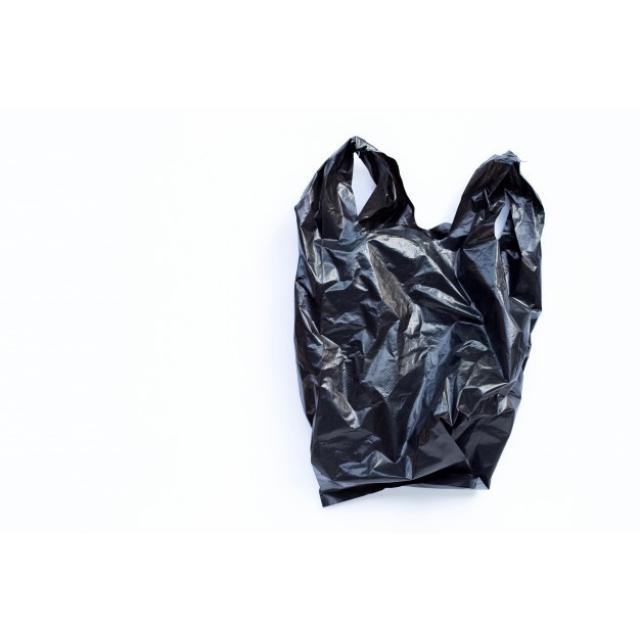plastic: (295, 137, 543, 505)
